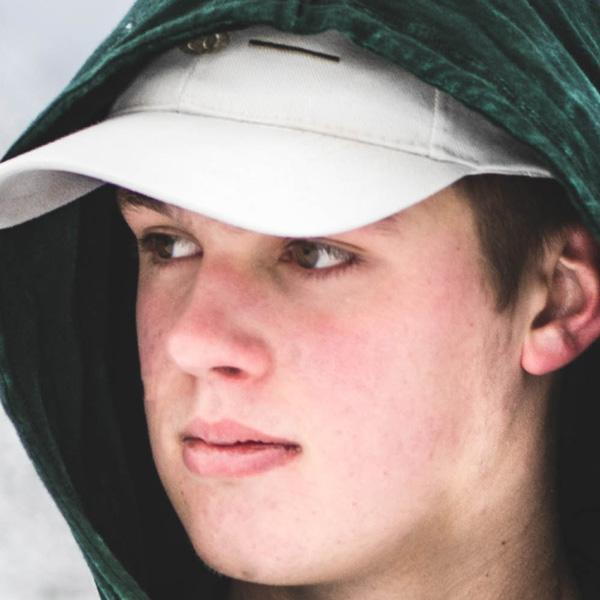Eyes: (261, 228, 373, 285), (132, 220, 209, 276)
